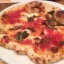pizza: (1, 2, 63, 64)
